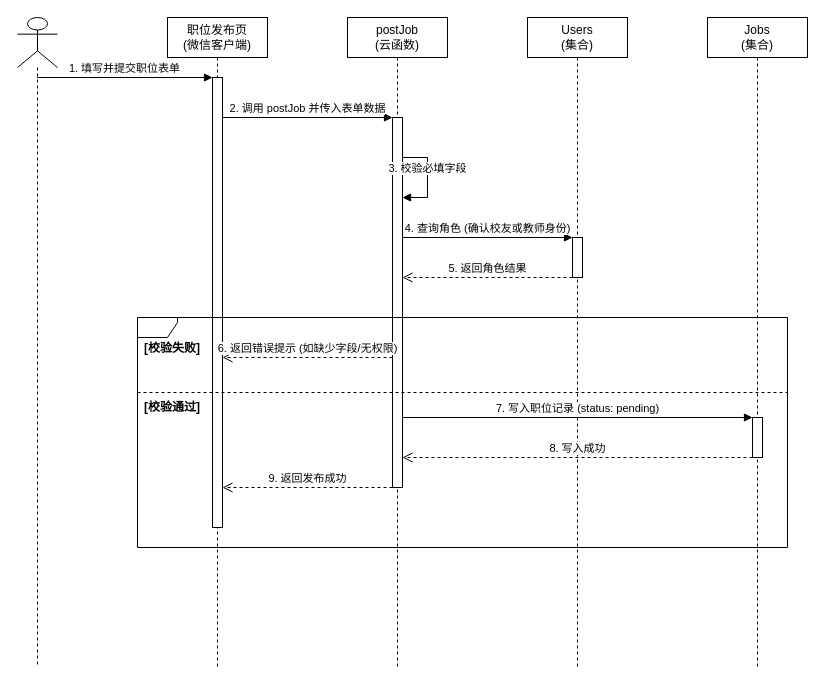
Image size: 825x685. Some labels were removed from this diagram. The box of each missing label's shape, as (x1, y1, x2, y2) in pixels:
alt: (136, 316, 788, 548)
校友: (16, 16, 58, 668)
